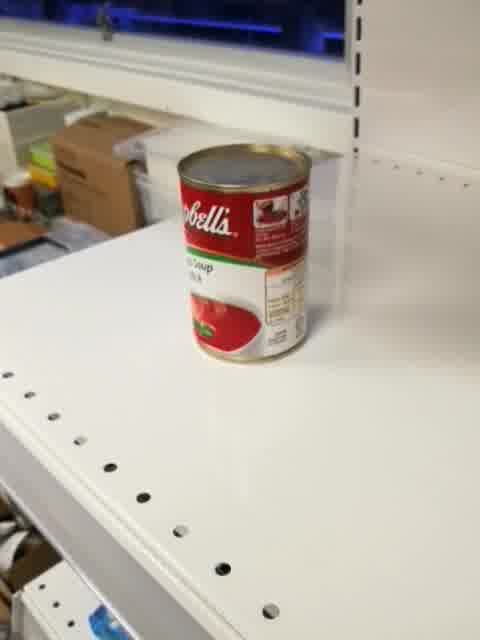tomatosoup: (175, 142, 314, 365)
